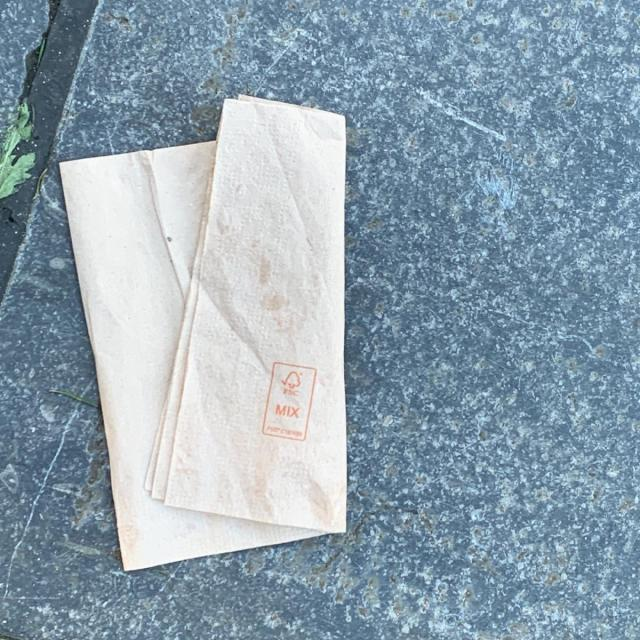Paper: (56, 93, 349, 575)
